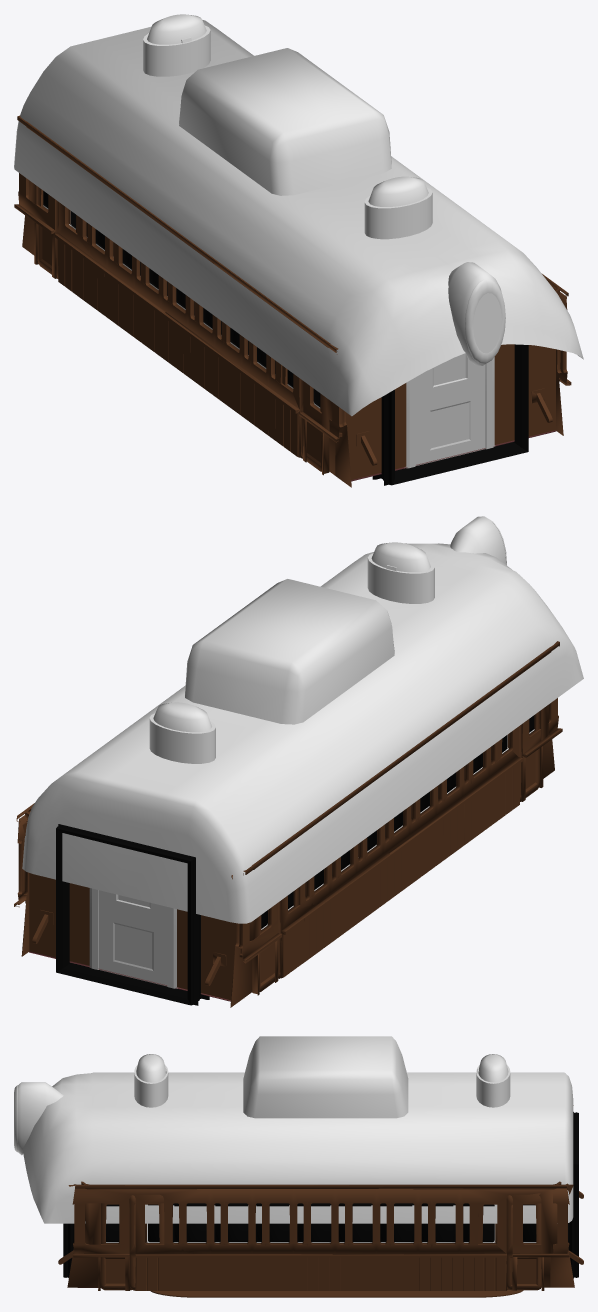
File: trenopoli.fbx
3 views of the same model, one above another, from view 1: azimuth 30°, elevation 25°; view 2: azimuth 150°, elevation 25°; view 3: azimuth 270°, elevation 25° (orthographic). The views are drawn at different scales.
Parts seen in each view (by area): view 1: Tetto_esterno, Carrozzeria_esterna.002, Parete_interno.004, Porta_anteriore.002, Carrozzeria_esterna.003, Aggangio.002, Carrozzeria_esterna, Stipite_anteriore.003, Vetri.002, Parete_interno.001, Parete_interno.003; view 2: Tetto_esterno, Carrozzeria_esterna.002, Parete_interno.003, Porta_anteriore.001, Aggangio, Carrozzeria_esterna, Carrozzeria_esterna.003, Stipite_anteriore.002, Vetri.002, Aggangio.003; view 3: Tetto_esterno, Carrozzeria_esterna, Carrozzeria_esterna.003, Carrozzeria_esterna.002, Vetri, Plane, Vetri.003, Aggangio, Parete_interno.004, Vetri.002, Parete_interno.003, Aggangio.002.
Part boxes in pixels (x1=…): Tetto_esterno: x1=14, y1=14, x2=583, y2=416; Carrozzeria_esterna.002: x1=14, y1=115, x2=559, y2=475; Parete_interno.004: x1=343, y1=344, x2=563, y2=479; Porta_anteriore.002: x1=415, y1=353, x2=485, y2=465; Carrozzeria_esterna.003: x1=26, y1=121, x2=567, y2=462; Aggangio.002: x1=372, y1=344, x2=528, y2=485; Carrozzeria_esterna: x1=55, y1=212, x2=571, y2=462; Stipite_anteriore.003: x1=342, y1=357, x2=495, y2=481; Vetri.002: x1=43, y1=191, x2=293, y2=387; Parete_interno.001: x1=335, y1=302, x2=563, y2=487; Parete_interno.003: x1=22, y1=209, x2=335, y2=475; Tetto_esterno: x1=22, y1=516, x2=583, y2=923; Carrozzeria_esterna.002: x1=14, y1=646, x2=551, y2=982; Parete_interno.003: x1=21, y1=733, x2=509, y2=1007; Porta_anteriore.001: x1=98, y1=890, x2=167, y2=986; Aggangio: x1=56, y1=824, x2=209, y2=1005; Carrozzeria_esterna: x1=25, y1=641, x2=562, y2=995; Carrozzeria_esterna.003: x1=28, y1=728, x2=561, y2=995; Stipite_anteriore.002: x1=89, y1=888, x2=239, y2=1001; Vetri.002: x1=261, y1=735, x2=507, y2=928; Aggangio.003: x1=58, y1=826, x2=209, y2=1005; Tetto_esterno: x1=14, y1=1036, x2=573, y2=1223; Carrozzeria_esterna: x1=73, y1=1181, x2=583, y2=1290; Carrozzeria_esterna.003: x1=72, y1=1184, x2=541, y2=1290; Carrozzeria_esterna.002: x1=58, y1=1181, x2=569, y2=1290; Vetri: x1=297, y1=1203, x2=494, y2=1242; Plane: x1=150, y1=1290, x2=523, y2=1297; Vetri.003: x1=106, y1=1203, x2=315, y2=1242; Aggangio: x1=568, y1=1112, x2=578, y2=1278; Parete_interno.004: x1=67, y1=1184, x2=146, y2=1287; Vetri.002: x1=148, y1=1203, x2=536, y2=1242; Parete_interno.003: x1=146, y1=1105, x2=574, y2=1287; Aggangio.002: x1=63, y1=1223, x2=74, y2=1278.
Bounding box in the file's own units: 482 × 478 × 1233.
